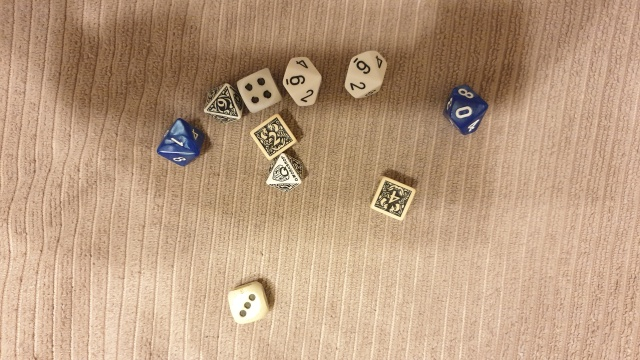d10-1: (150, 116, 206, 169)
d10-10: (444, 79, 487, 142)
d10-6: (342, 45, 393, 106), (279, 50, 323, 111)
d6-3: (226, 278, 271, 329)
d6-4: (232, 64, 282, 115)
d6p-2: (249, 114, 299, 163)
d6p-4: (365, 173, 417, 226)
d8p-6: (198, 80, 245, 127)
d8p-8: (261, 152, 308, 196)
